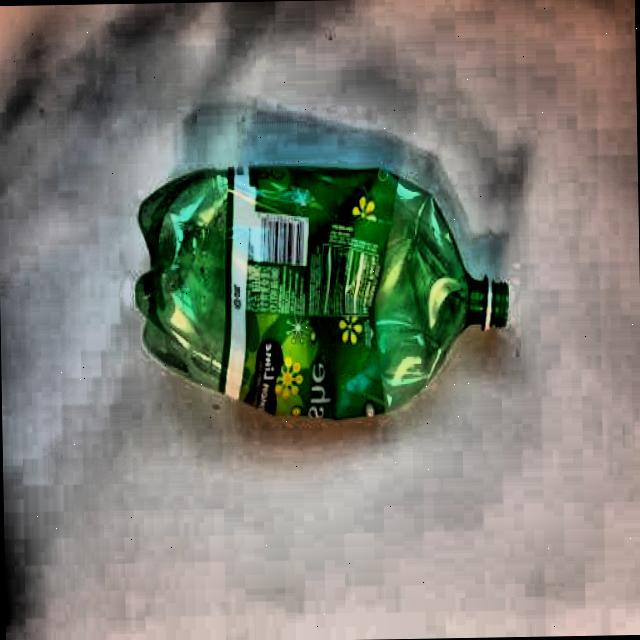plastic: (130, 160, 510, 423)
